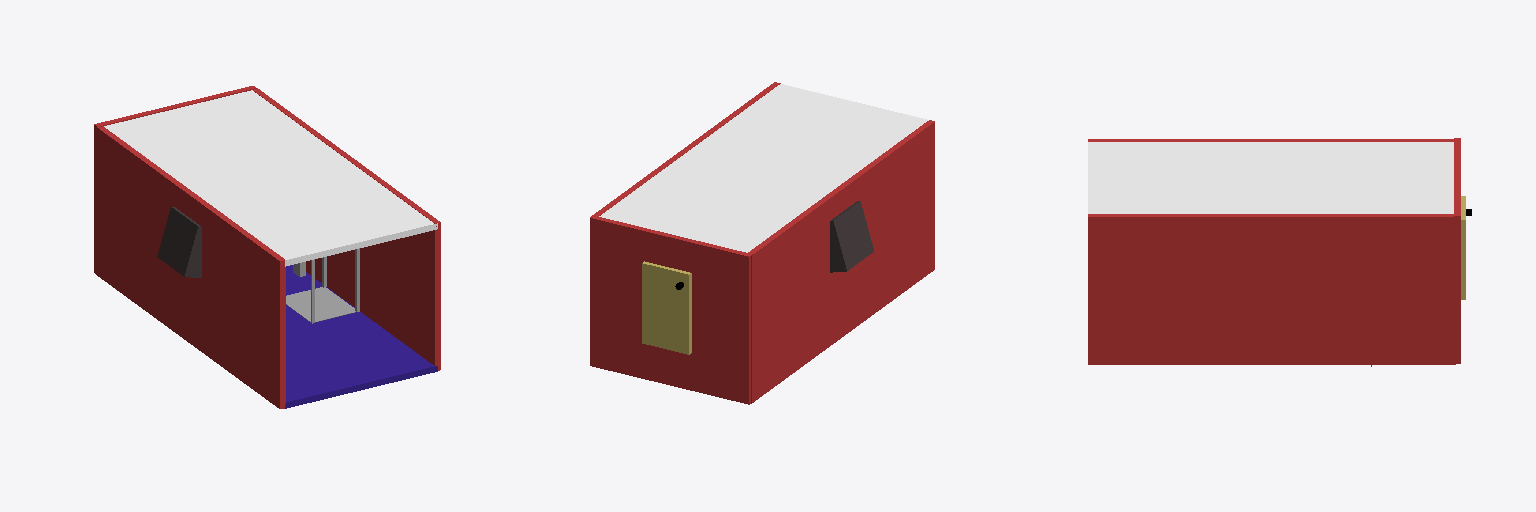
File: hit-man-style.obj
3 views of the same model, side by side, from view 1: azimuth 30°, elevation 25°; view 2: azimuth 150°, elevation 25°; view 3: azimuth 270°, elevation 25° (orthographic).
Parts seen in each view (by area): view 1: Box17, Box3, Box2, Box, Box23, Box16, Box1; view 2: Box17, Box3, Box1, Box4, Box23, Box2; view 3: Box2, Box17, Box1, Box3.
Boxes of the visible parts, x1=… form: Box17: x1=104, y1=90, x2=437, y2=266; Box3: x1=96, y1=126, x2=285, y2=408; Box2: x1=253, y1=88, x2=440, y2=370; Box: x1=285, y1=265, x2=437, y2=408; Box23: x1=157, y1=207, x2=201, y2=277; Box16: x1=286, y1=287, x2=355, y2=321; Box1: x1=94, y1=86, x2=256, y2=273; Box17: x1=599, y1=84, x2=928, y2=252; Box3: x1=748, y1=120, x2=934, y2=403; Box1: x1=590, y1=215, x2=752, y2=404; Box4: x1=642, y1=261, x2=691, y2=354; Box23: x1=830, y1=201, x2=873, y2=272; Box2: x1=591, y1=82, x2=780, y2=216; Box2: x1=1088, y1=214, x2=1455, y2=364; Box17: x1=1088, y1=142, x2=1453, y2=213; Box1: x1=1454, y1=138, x2=1460, y2=363; Box3: x1=1088, y1=139, x2=1453, y2=141.
Bounding box in the file's own units: 3.02 × 2.69 × 5.62.